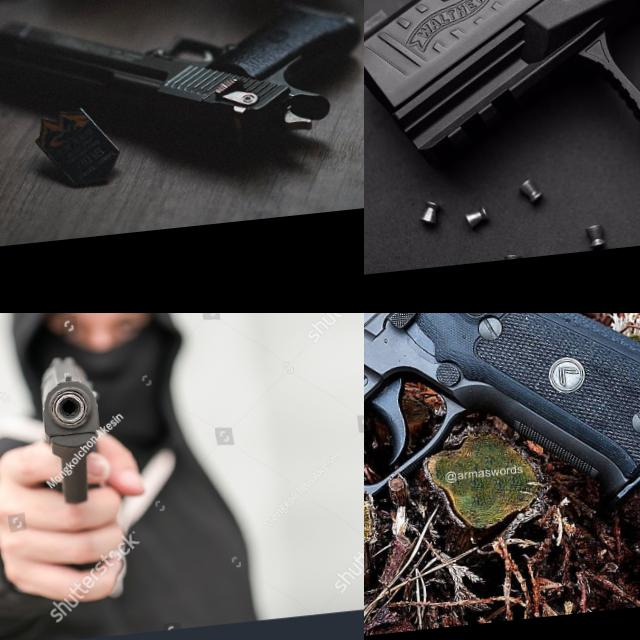handgun: (364, 313, 640, 582), (0, 0, 364, 184), (364, 0, 640, 193), (34, 351, 112, 509)
